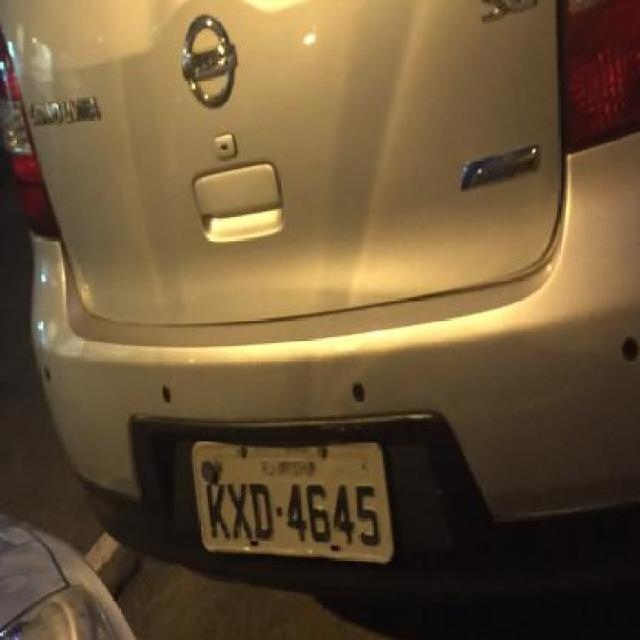old_plate: (186, 434, 404, 570)
